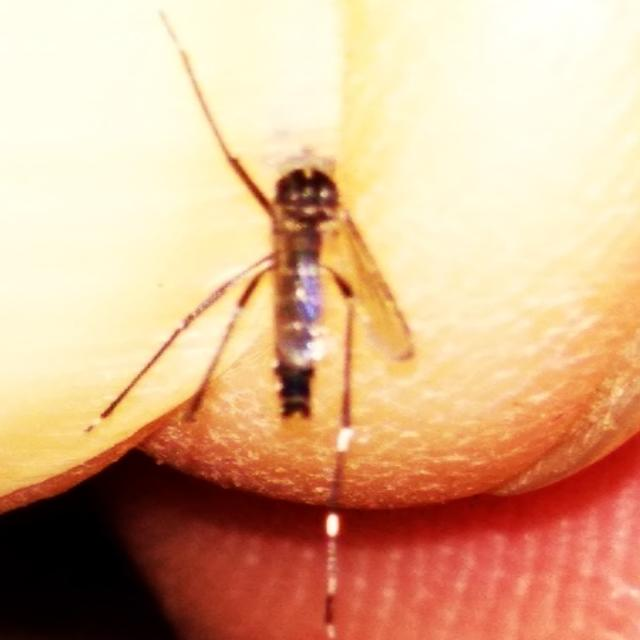albopictus: (103, 14, 476, 493)
